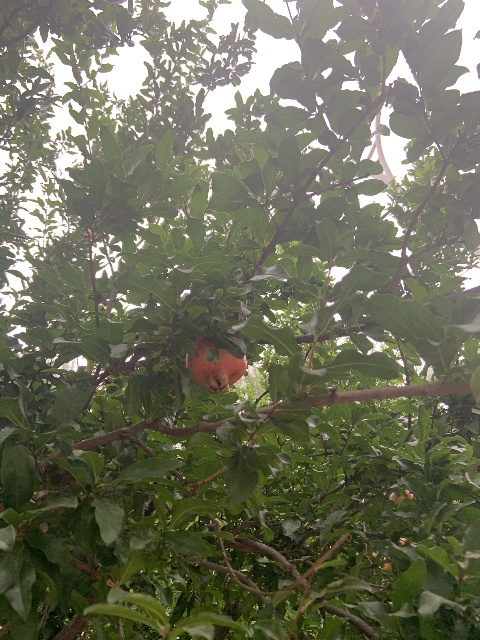ripe: (186, 338, 247, 393)
